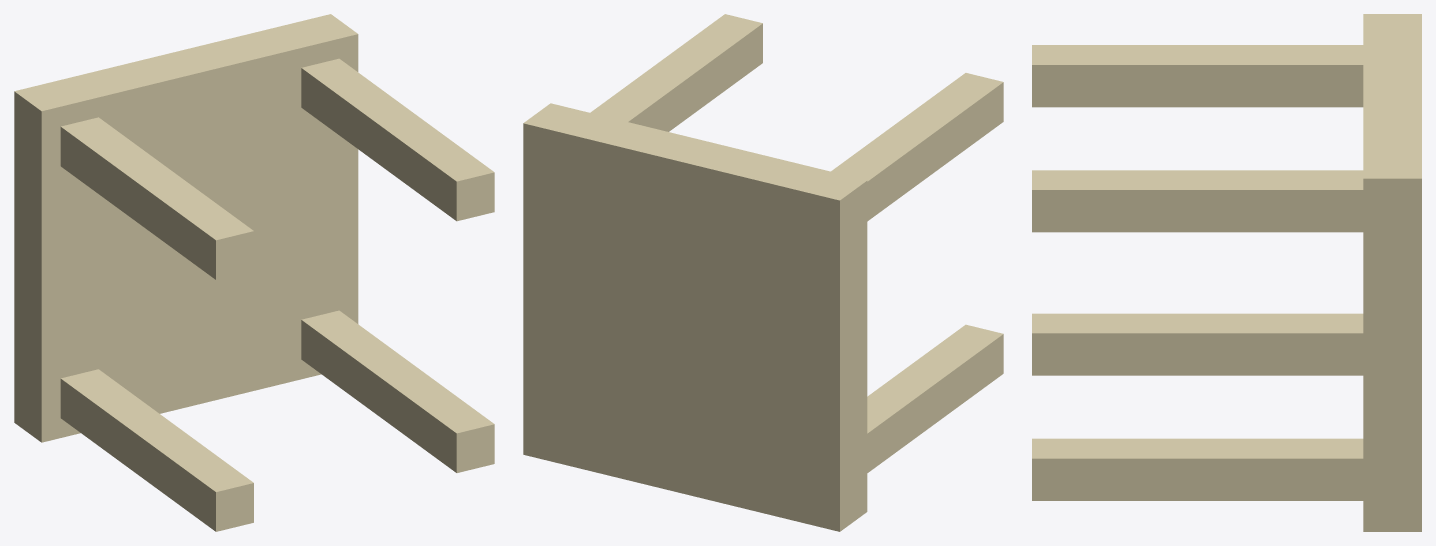
The model's file is birch_table_held.gltf.
3 renders of one model, left to right at view 1: azimuth 30°, elevation 25°; view 2: azimuth 150°, elevation 25°; view 3: azimuth 270°, elevation 25°, orthographic. The views are drawn at different scales.
Visible parts, largest first — view 1: building_birch_table_held; view 2: building_birch_table_held; view 3: building_birch_table_held.
Boxes of the visible parts, x1=… form: building_birch_table_held: x1=14, y1=14, x2=494, y2=531; building_birch_table_held: x1=523, y1=14, x2=1003, y2=531; building_birch_table_held: x1=1032, y1=14, x2=1421, y2=531.
Size of the model in its own units: 0.16 by 0.16 by 0.16.
